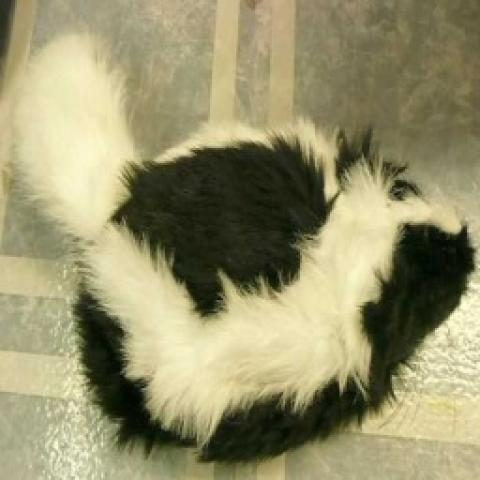small_animal: (13, 38, 477, 454)
